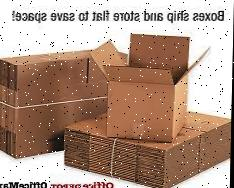cube: (108, 78, 191, 142)
